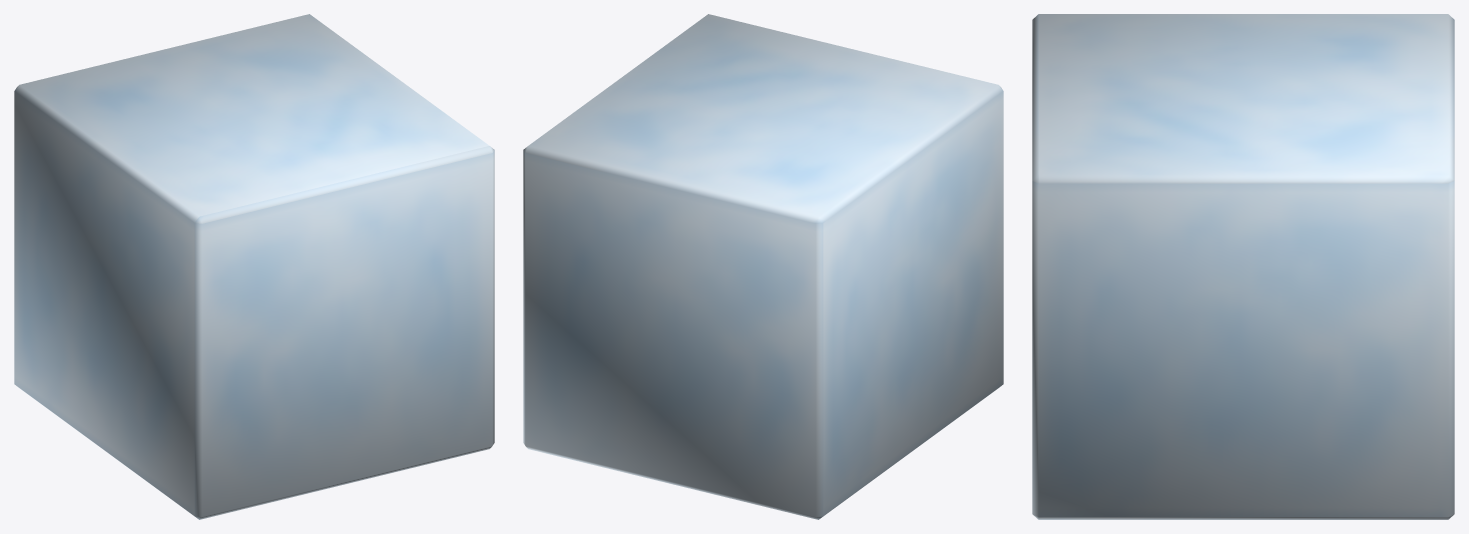
File: jsf_BlockIce.fbx
3 views of the same model, side by side, from view 1: azimuth 30°, elevation 25°; view 2: azimuth 150°, elevation 25°; view 3: azimuth 270°, elevation 25° (orthographic). The views are drawn at different scales.
Visible parts, largest first — view 1: jsf_BlockIce; view 2: jsf_BlockIce; view 3: jsf_BlockIce.
Boxes of the visible parts, box(x1,y1,x2,y2) form: jsf_BlockIce: box(14, 14, 494, 519); jsf_BlockIce: box(523, 14, 1003, 519); jsf_BlockIce: box(1032, 14, 1454, 519).
Bounding box in the file's own units: 12.42 × 12 × 13.32.
